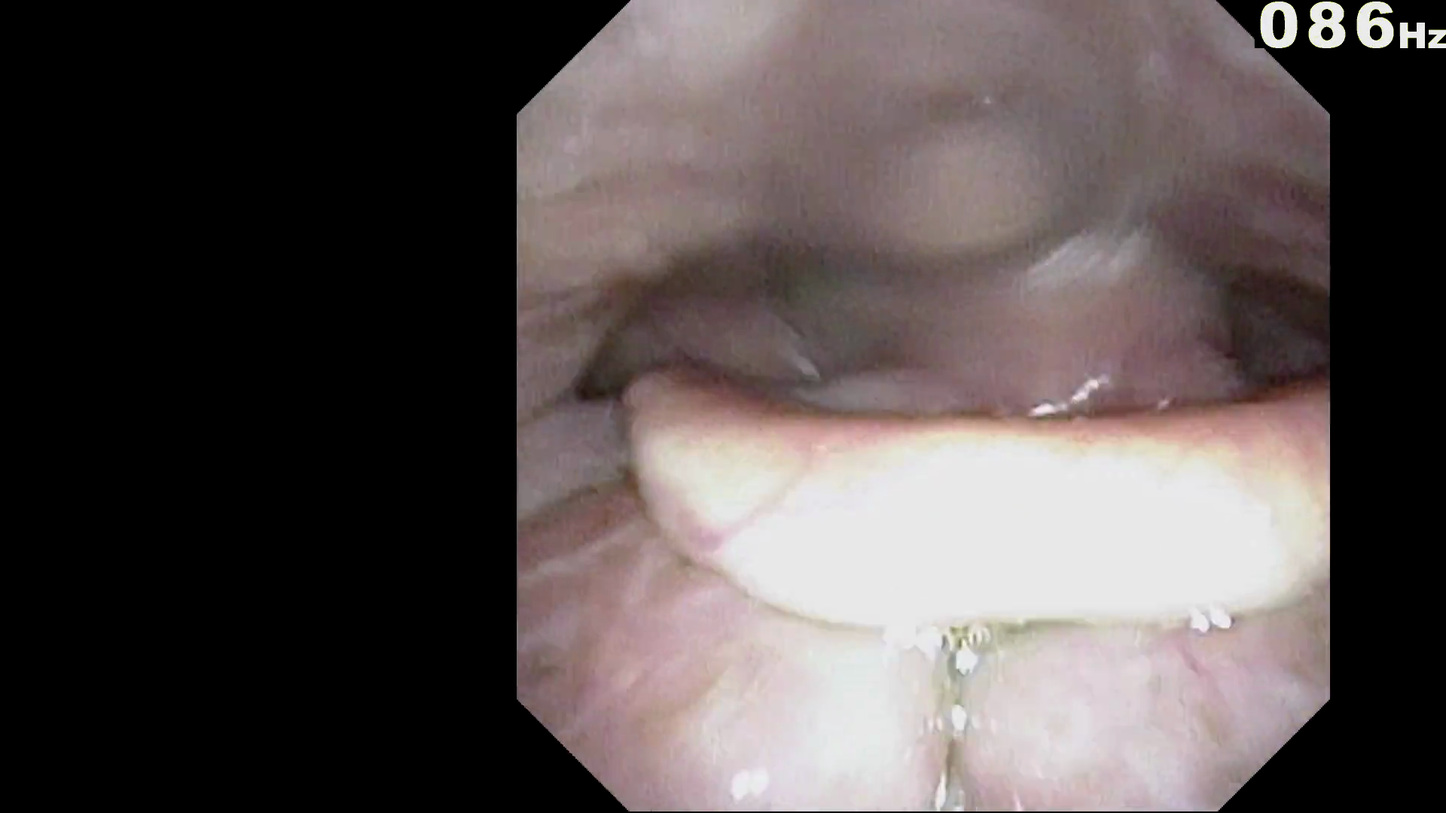epiglottis: (651, 460, 1266, 685)
trachea: (936, 494, 1082, 608)
